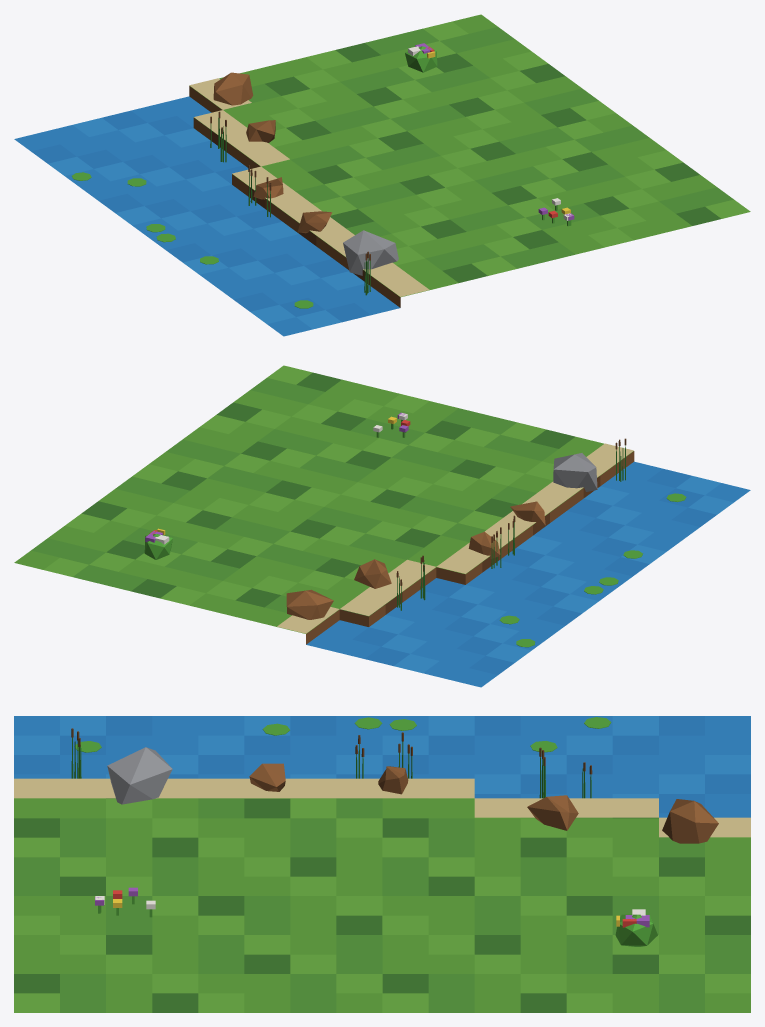
File: chunk_0_8.glb
3 views of the same model, one above another, from view 1: azimuth 30°, elevation 25°; view 2: azimuth 150°, elevation 25°; view 3: azimuth 270°, elevation 25° (orthographic). The views are drawn at different scales.
Parts seen in each view (by area): view 1: chunk_0_8; view 2: chunk_0_8; view 3: chunk_0_8.
Boxes of the visible parts, left/top/right/bottom form: chunk_0_8: left=14, top=14, right=750, bottom=336; chunk_0_8: left=14, top=365, right=750, bottom=687; chunk_0_8: left=14, top=716, right=750, bottom=1012.
Bounding box in the file's own units: 16 × 1.54 × 16.
